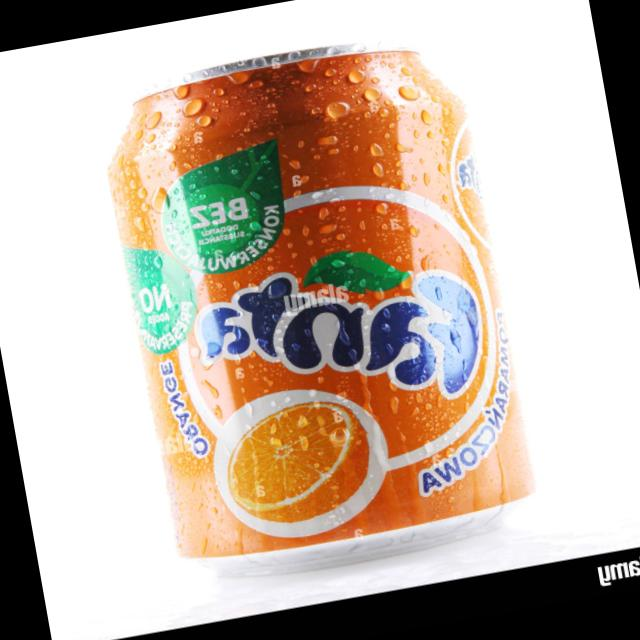fanta: (86, 32, 546, 588)
